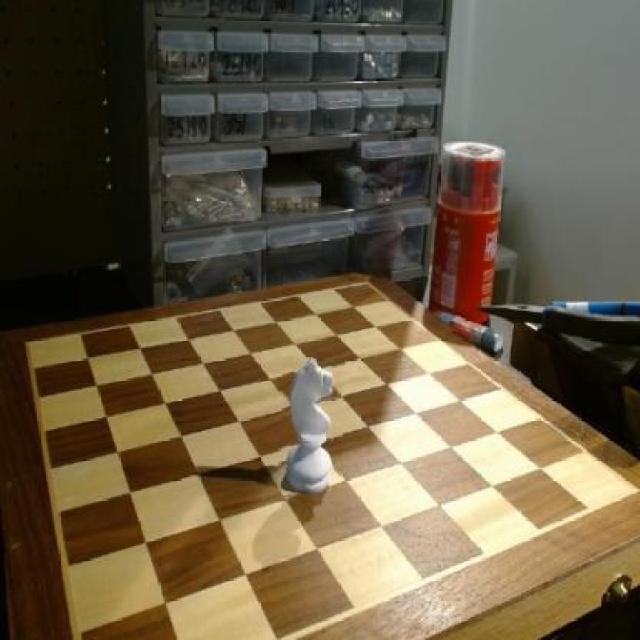white-king: (278, 357, 344, 501)
